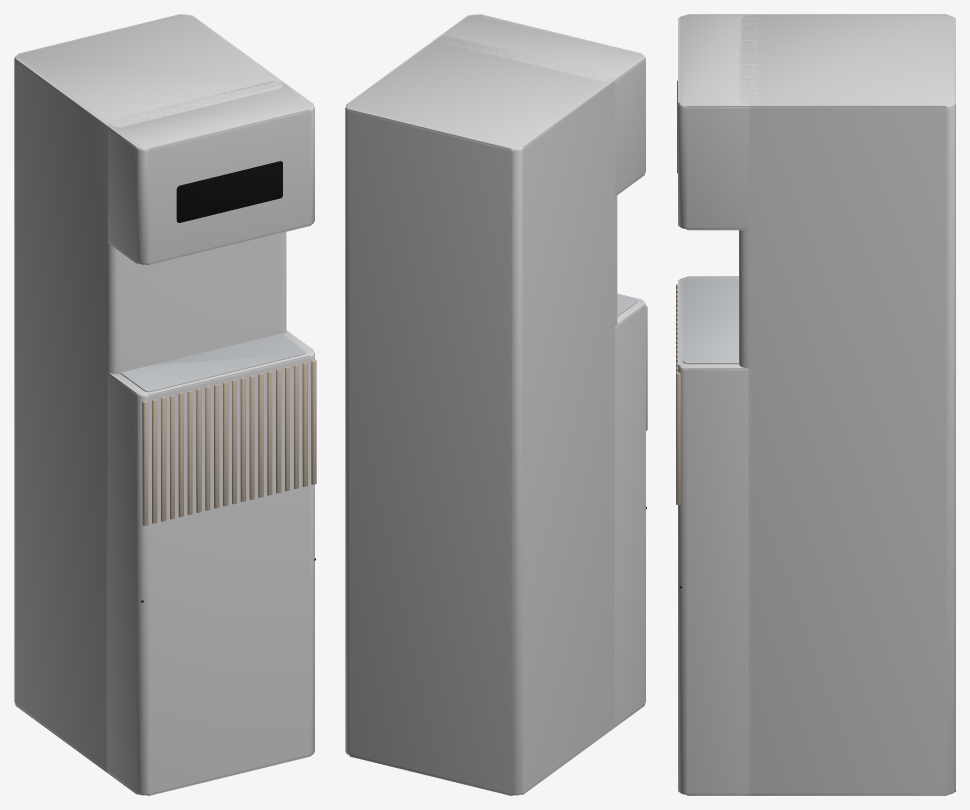
3 renders of one model, left to right at view 1: azimuth 30°, elevation 25°; view 2: azimuth 150°, elevation 25°; view 3: azimuth 270°, elevation 25°, orthographic. The views are drawn at different scales.
Parts seen in each view (by area): view 1: WS513SH; view 2: WS513SH; view 3: WS513SH.
Part boxes in pixels (left/top/right/bottom): WS513SH: left=14, top=14, right=316, bottom=795; WS513SH: left=345, top=14, right=647, bottom=795; WS513SH: left=676, top=14, right=955, bottom=795.
Size of the model in its own units: 0.36 by 1.26 by 0.462.
